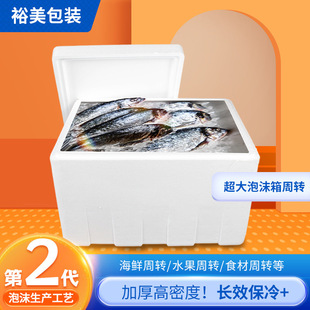Boxes: (50, 45, 259, 245)
